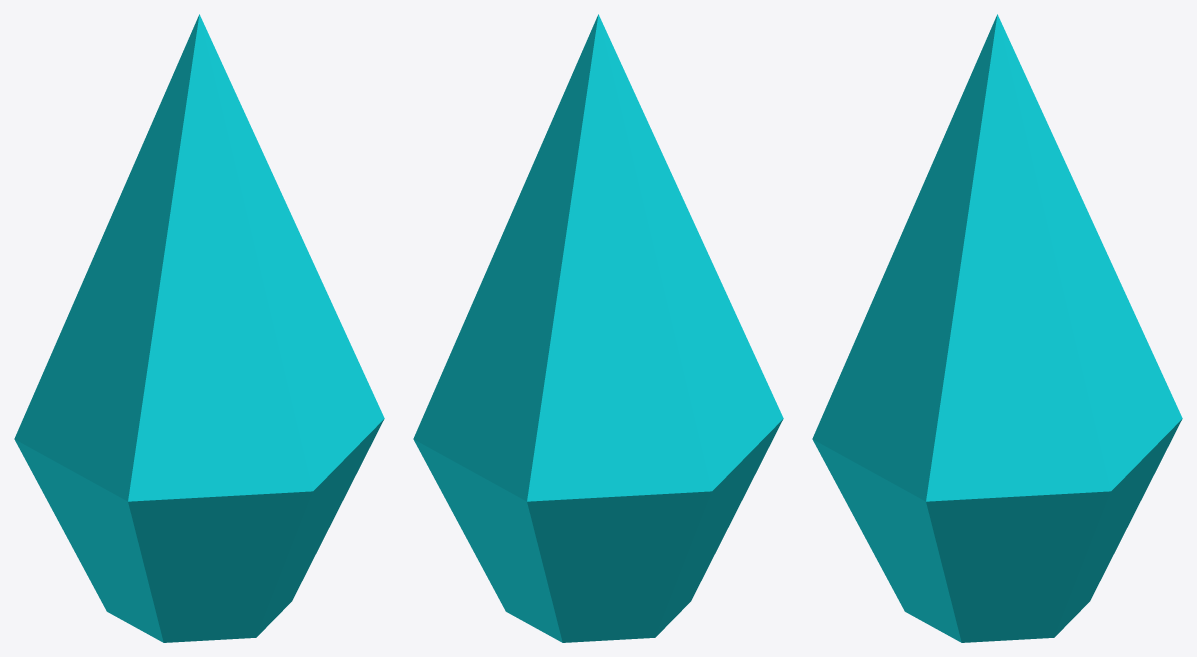
File: sconce_fire.glb
3 renders of one model, left to right at view 1: azimuth 30°, elevation 25°; view 2: azimuth 150°, elevation 25°; view 3: azimuth 270°, elevation 25°, orthographic.
Visible parts, largest first — view 1: SconceFire; view 2: SconceFire; view 3: SconceFire.
Part boxes in pixels (<box>): SconceFire: <box>14,14,384,642</box>; SconceFire: <box>413,14,783,642</box>; SconceFire: <box>812,14,1182,642</box>.
Size of the model in its own units: 0.2217 by 0.42 by 0.2379.
